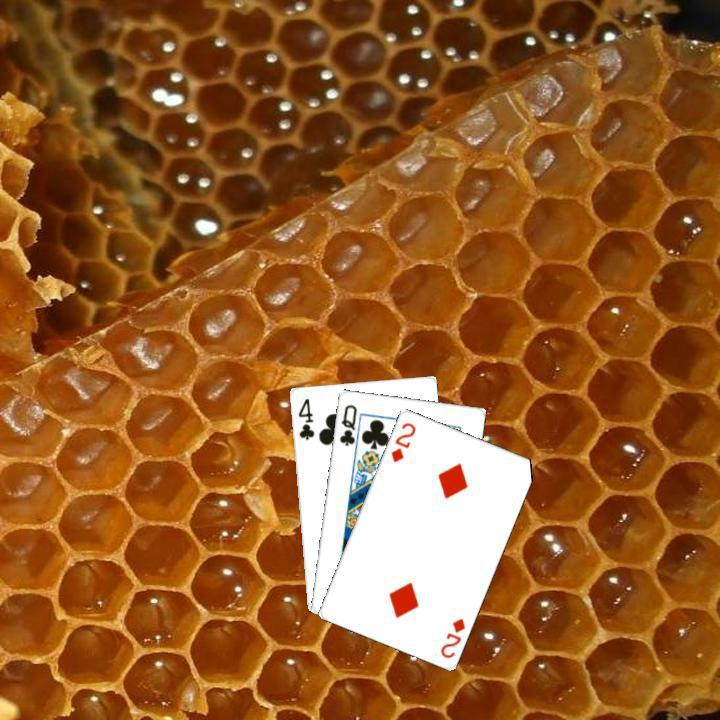2: (386, 418, 418, 464), (436, 613, 467, 660)
4: (293, 394, 316, 442)
Q: (335, 400, 358, 448)
